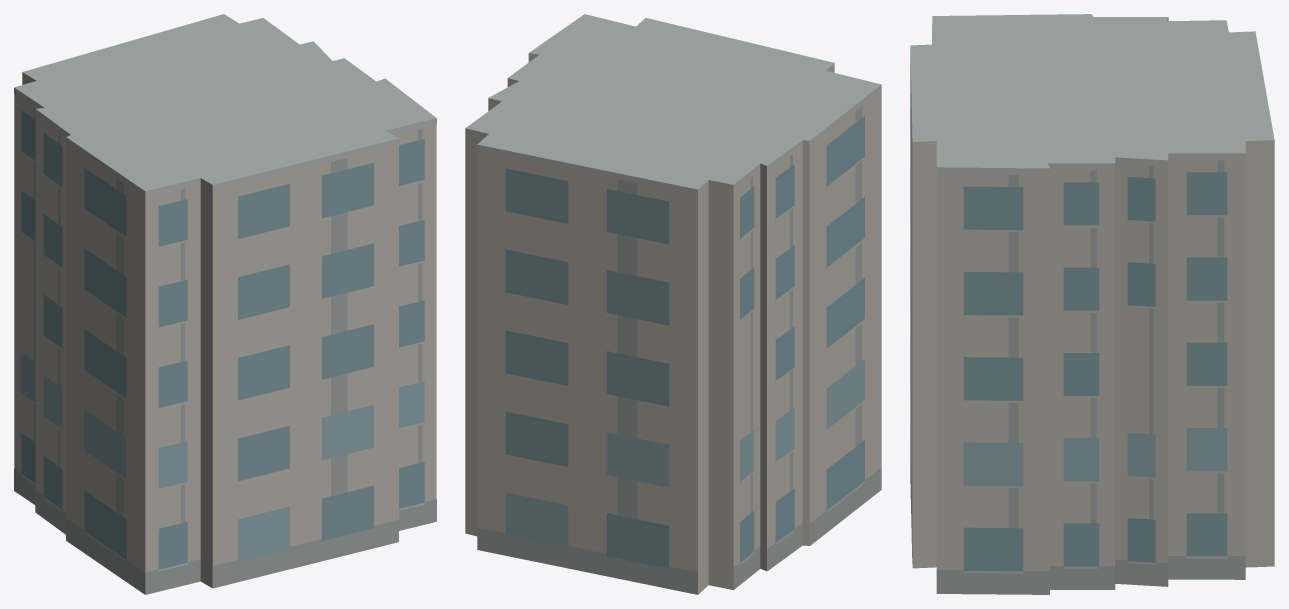
File: survey-upis-32564701.glb
3 views of the same model, side by side, from view 1: azimuth 30°, elevation 25°; view 2: azimuth 150°, elevation 25°; view 3: azimuth 270°, elevation 25° (orthographic). The views are drawn at different scales.
Parts seen in each view (by area): view 1: survey-upis-32564701.tmp; view 2: survey-upis-32564701.tmp; view 3: survey-upis-32564701.tmp.
Part boxes in pixels (bbox=[...]): survey-upis-32564701.tmp: bbox=[14, 14, 436, 594]; survey-upis-32564701.tmp: bbox=[465, 14, 881, 594]; survey-upis-32564701.tmp: bbox=[910, 14, 1274, 594].
Bounding box in the file's own units: 11.66 × 15 × 11.62.
